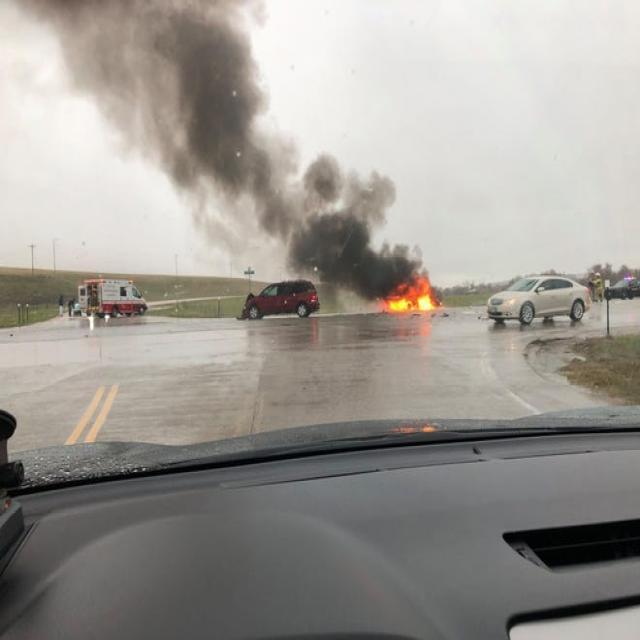Fire: (389, 293, 437, 314)
Smoke: (170, 15, 242, 136)
